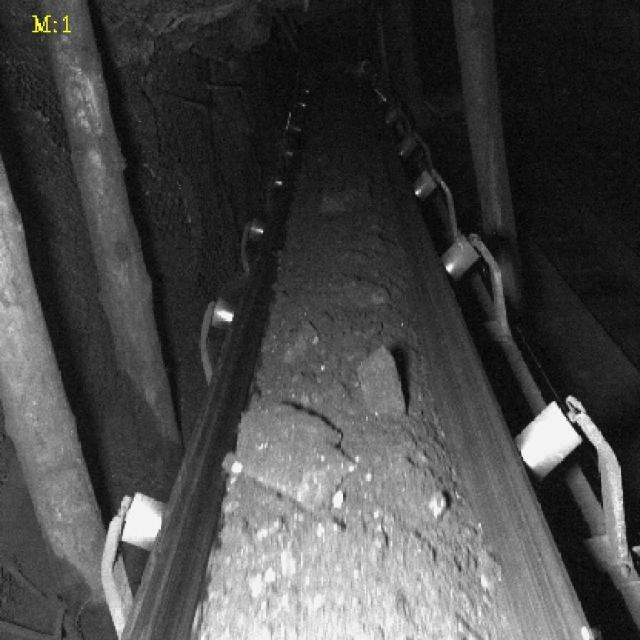large_sized_coal: (228, 398, 348, 511), (354, 352, 408, 416)
